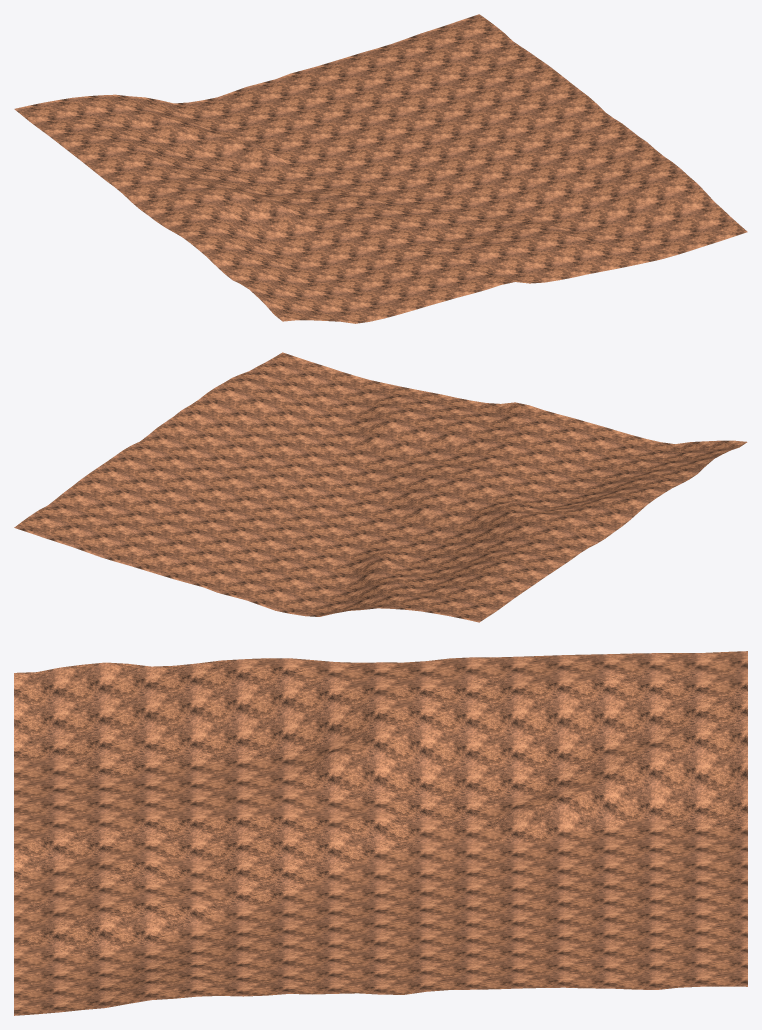
Rendered from terrain_07_08.dae.
The picture shows the model from 3 angles, top to bottom: view 1: azimuth 30°, elevation 25°; view 2: azimuth 150°, elevation 25°; view 3: azimuth 270°, elevation 25°; orthographic projection. The views are drawn at different scales.
Parts seen in each view (by area): view 1: terrain_07_08-node; view 2: terrain_07_08-node; view 3: terrain_07_08-node.
Part boxes in pixels (x1,y1,x2,y2): terrain_07_08-node: (14, 14, 747, 323); terrain_07_08-node: (14, 352, 747, 622); terrain_07_08-node: (14, 651, 747, 1015).
Size of the model in its own units: 128 by 128 by 12.17.
1 material, 1 textured.
